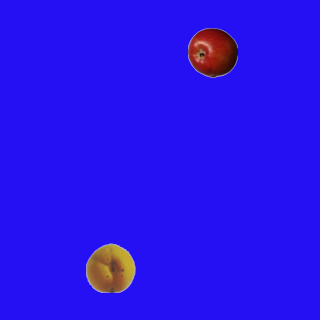Apple Braeburn: (187, 27, 237, 77)
Peach 2: (85, 242, 135, 292)
